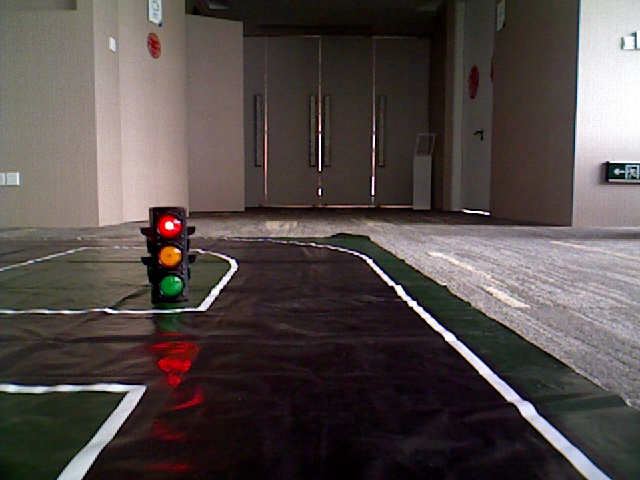red: (151, 209, 184, 296)
